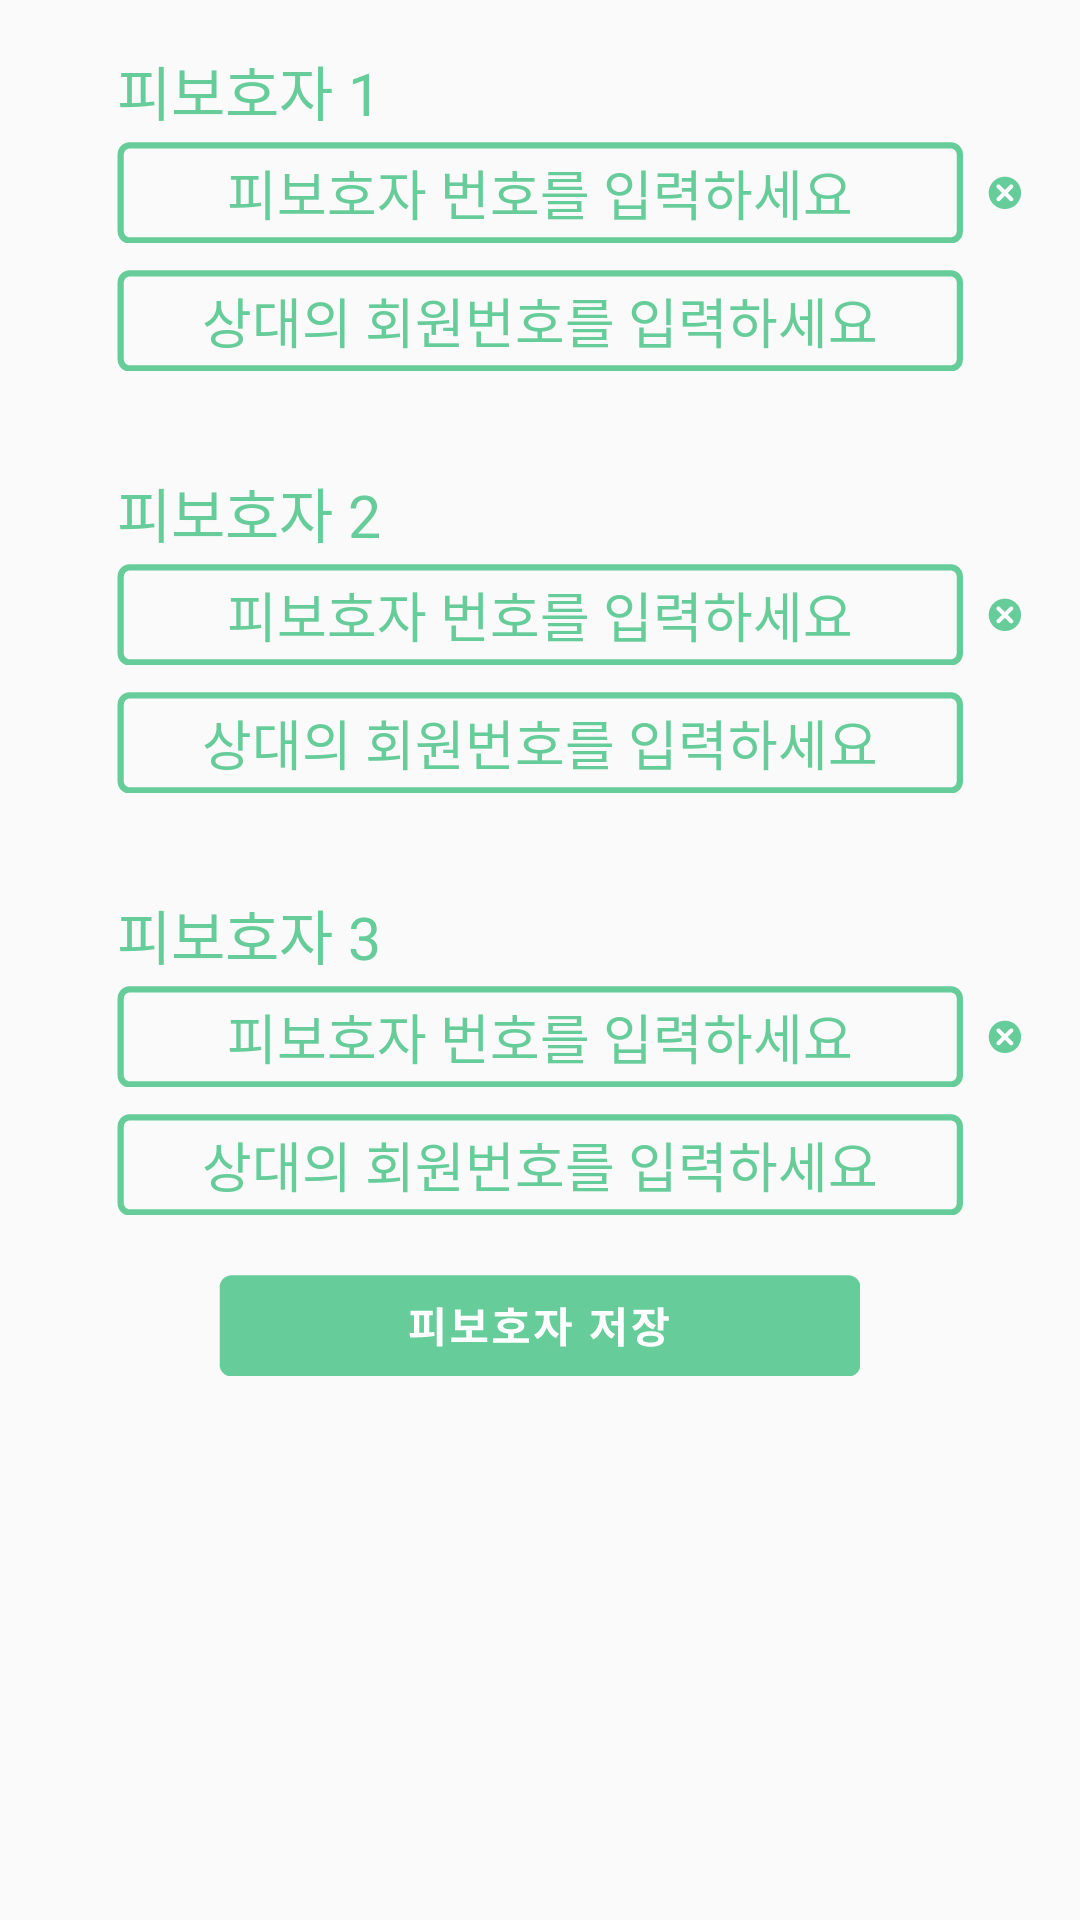

Icon bounding boxes for this 1080 × 1920 phone screenshot, format (x1, y1, x2, y2):
cancel: (988, 176, 1021, 209), (988, 598, 1021, 631), (988, 1020, 1021, 1053)
